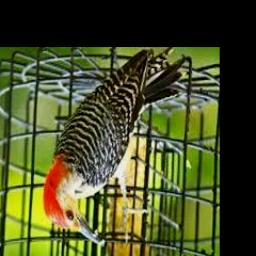Woodpecker: (43, 49, 182, 248)
